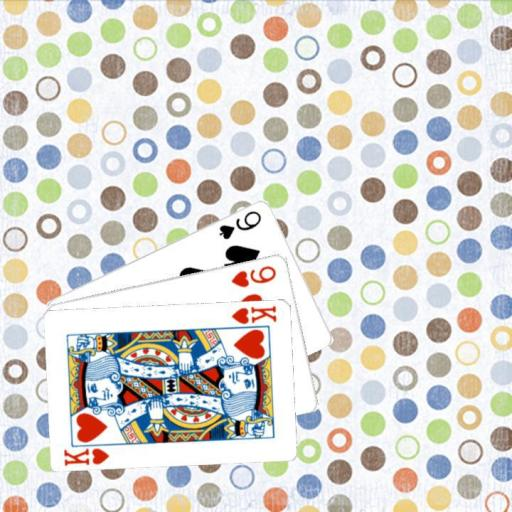9H: (228, 262, 278, 289)
9S: (216, 207, 263, 241)
KH: (229, 302, 278, 325), (61, 445, 112, 467)
